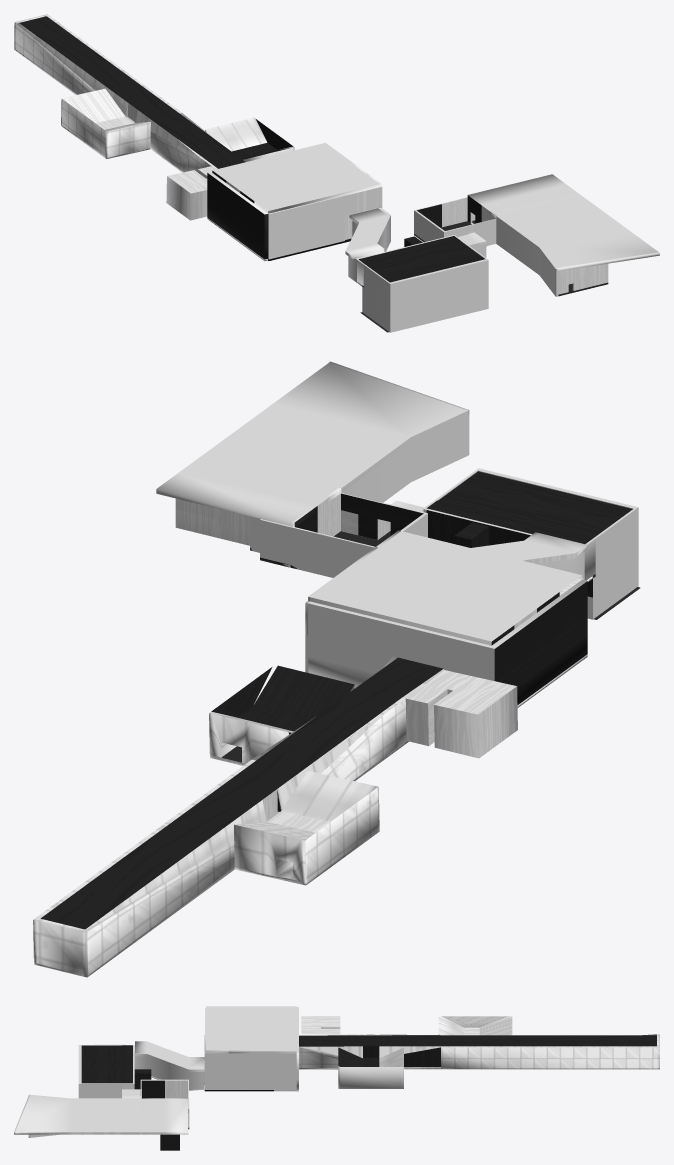
File: TutorialLevel.fbx
3 views of the same model, one above another, from view 1: azimuth 30°, elevation 25°; view 2: azimuth 150°, elevation 25°; view 3: azimuth 270°, elevation 25° (orthographic). The views are drawn at different scales.
Visible parts, largest first — view 1: TutorialLevel; view 2: TutorialLevel; view 3: TutorialLevel.
Boxes of the visible parts, x1=… form: TutorialLevel: x1=14, y1=14, x2=659, y2=332; TutorialLevel: x1=33, y1=361, x2=640, y2=977; TutorialLevel: x1=14, y1=1006, x2=659, y2=1150.
Bounding box in the file's own units: 20307 × 4969 × 47829.
